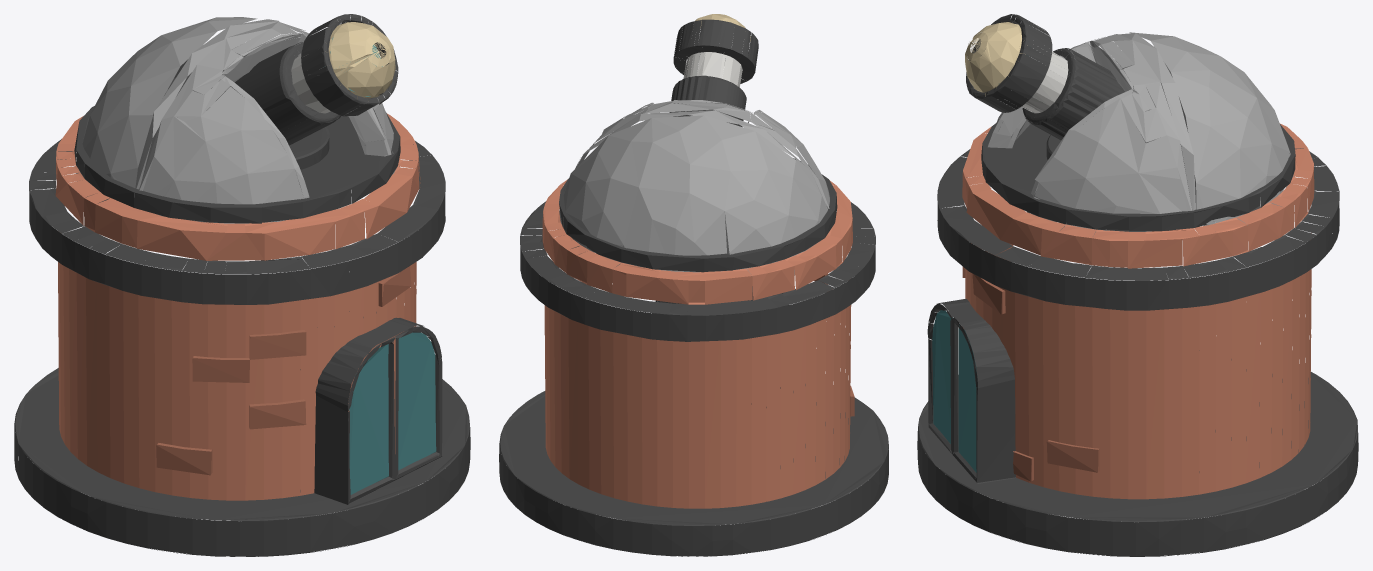
The model's file is observatorio.glb.
The picture shows the model from 3 angles, left to right: view 1: azimuth 30°, elevation 25°; view 2: azimuth 150°, elevation 25°; view 3: azimuth 270°, elevation 25°; orthographic projection. The views are drawn at different scales.
Parts seen in each view (by area): view 1: observatorio; view 2: observatorio; view 3: observatorio.
Boxes of the visible parts, <box> form: observatorio: <box>14,14,470,556</box>; observatorio: <box>499,14,888,556</box>; observatorio: <box>917,14,1358,556</box>.
Bounding box in the file's own units: 0.9976 × 1.16 × 1.
